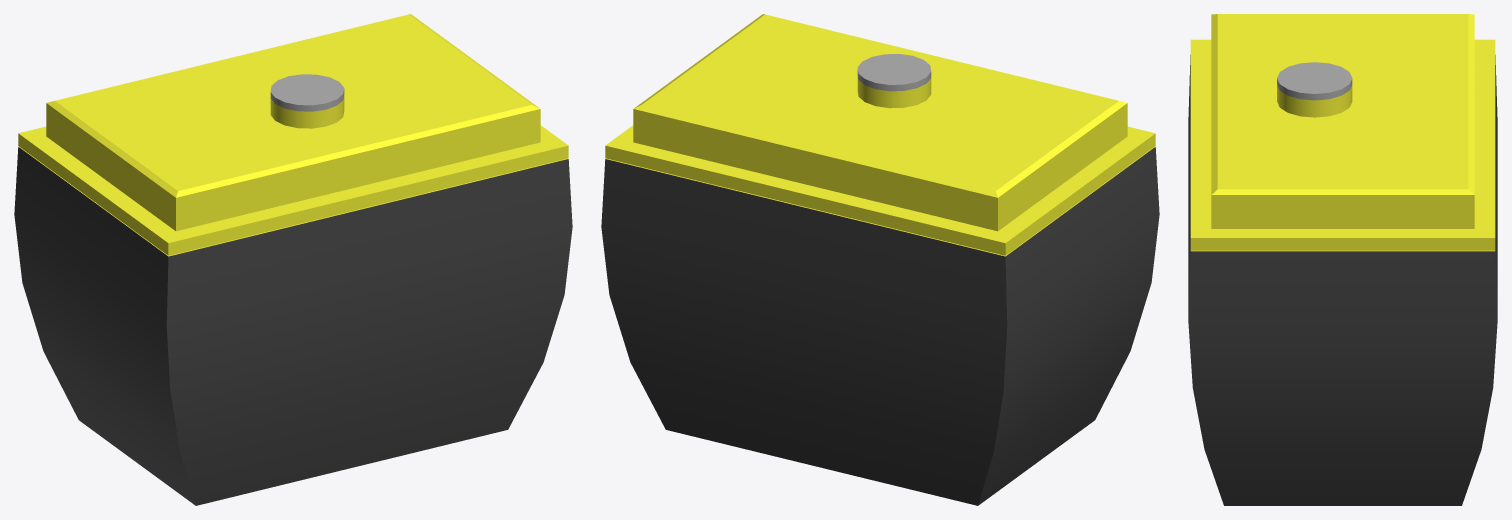
The model's file is mode_electric_generator.FBX.
The picture shows the model from 3 angles, left to right: view 1: azimuth 30°, elevation 25°; view 2: azimuth 150°, elevation 25°; view 3: azimuth 270°, elevation 25°; orthographic projection.
Visible parts, largest first — view 1: Box002; view 2: Box002; view 3: Box002.
Part boxes in pixels (box(x1,y1,x2,y2)): Box002: box(14, 14, 572, 505); Box002: box(601, 14, 1159, 505); Box002: box(1188, 14, 1497, 505).
Bounding box in the file's own units: 101 × 82.46 × 65.92.
1 material, 1 textured.
